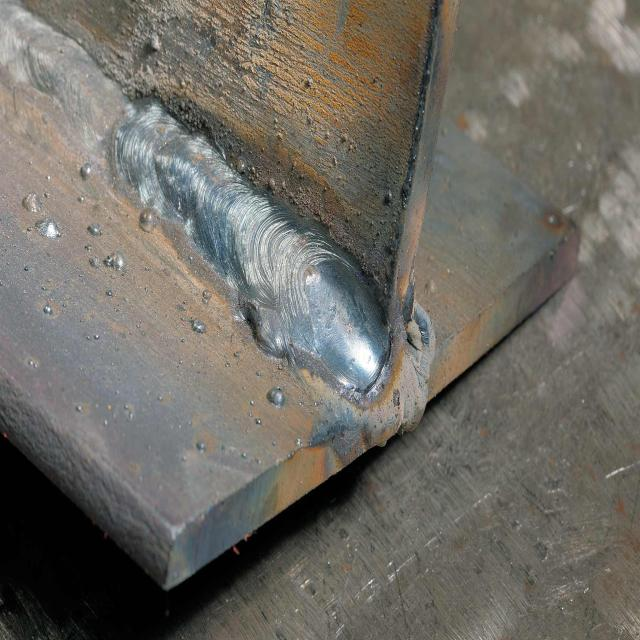Dry: (6, 16, 388, 421)
